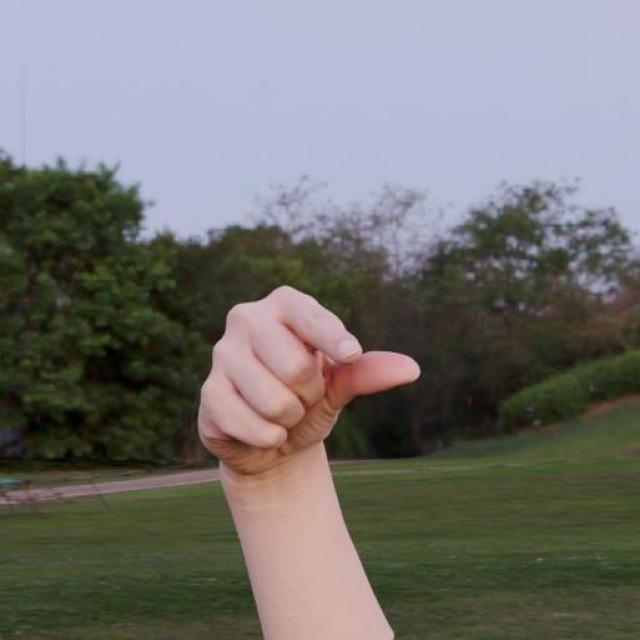G: (195, 284, 425, 474)
